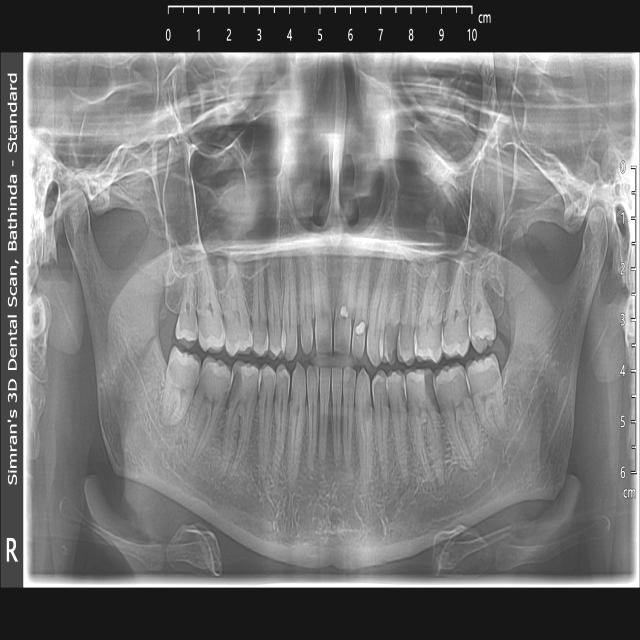Caries: (424, 374, 440, 418)
